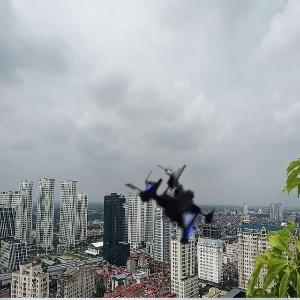drone: (102, 156, 236, 290)
